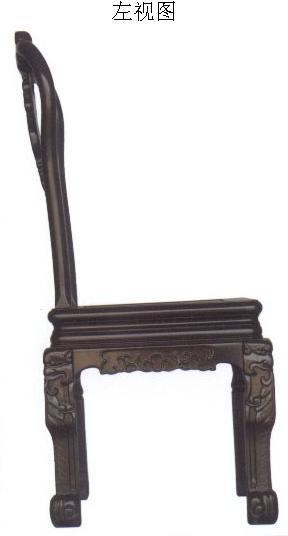obstacle: (15, 31, 277, 526)
